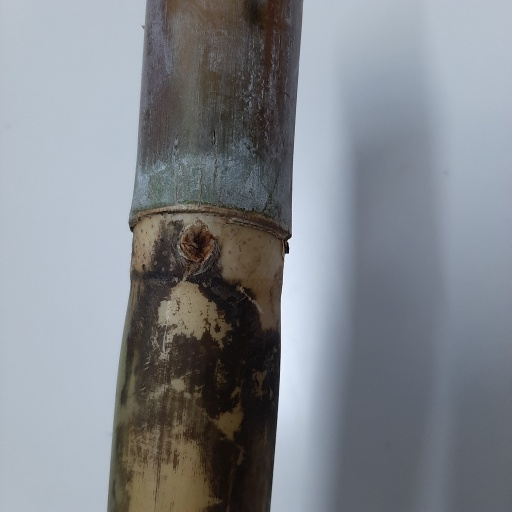Damage_Bud: (178, 219, 214, 263)
